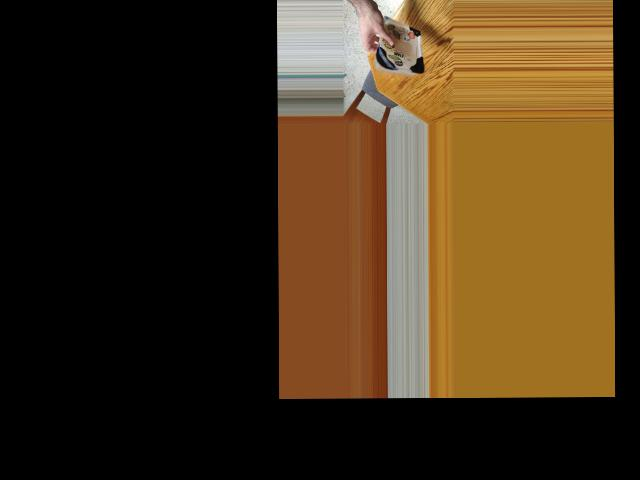cheese: (373, 27, 421, 79)
